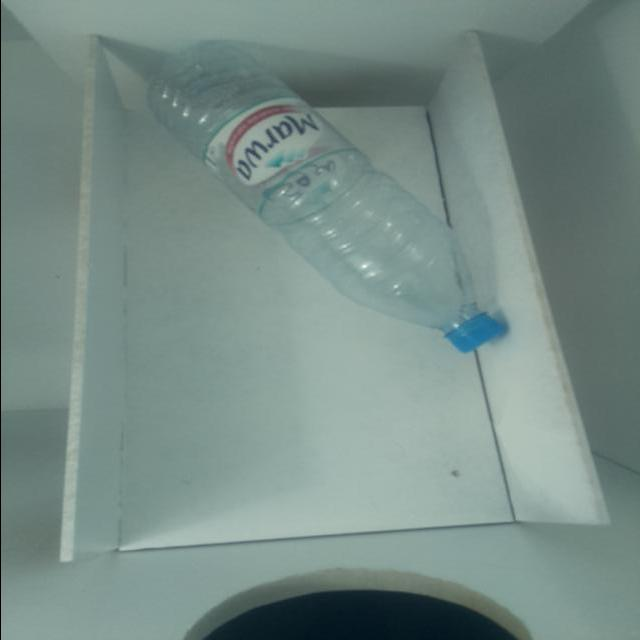寶特瓶: (128, 32, 510, 360)
